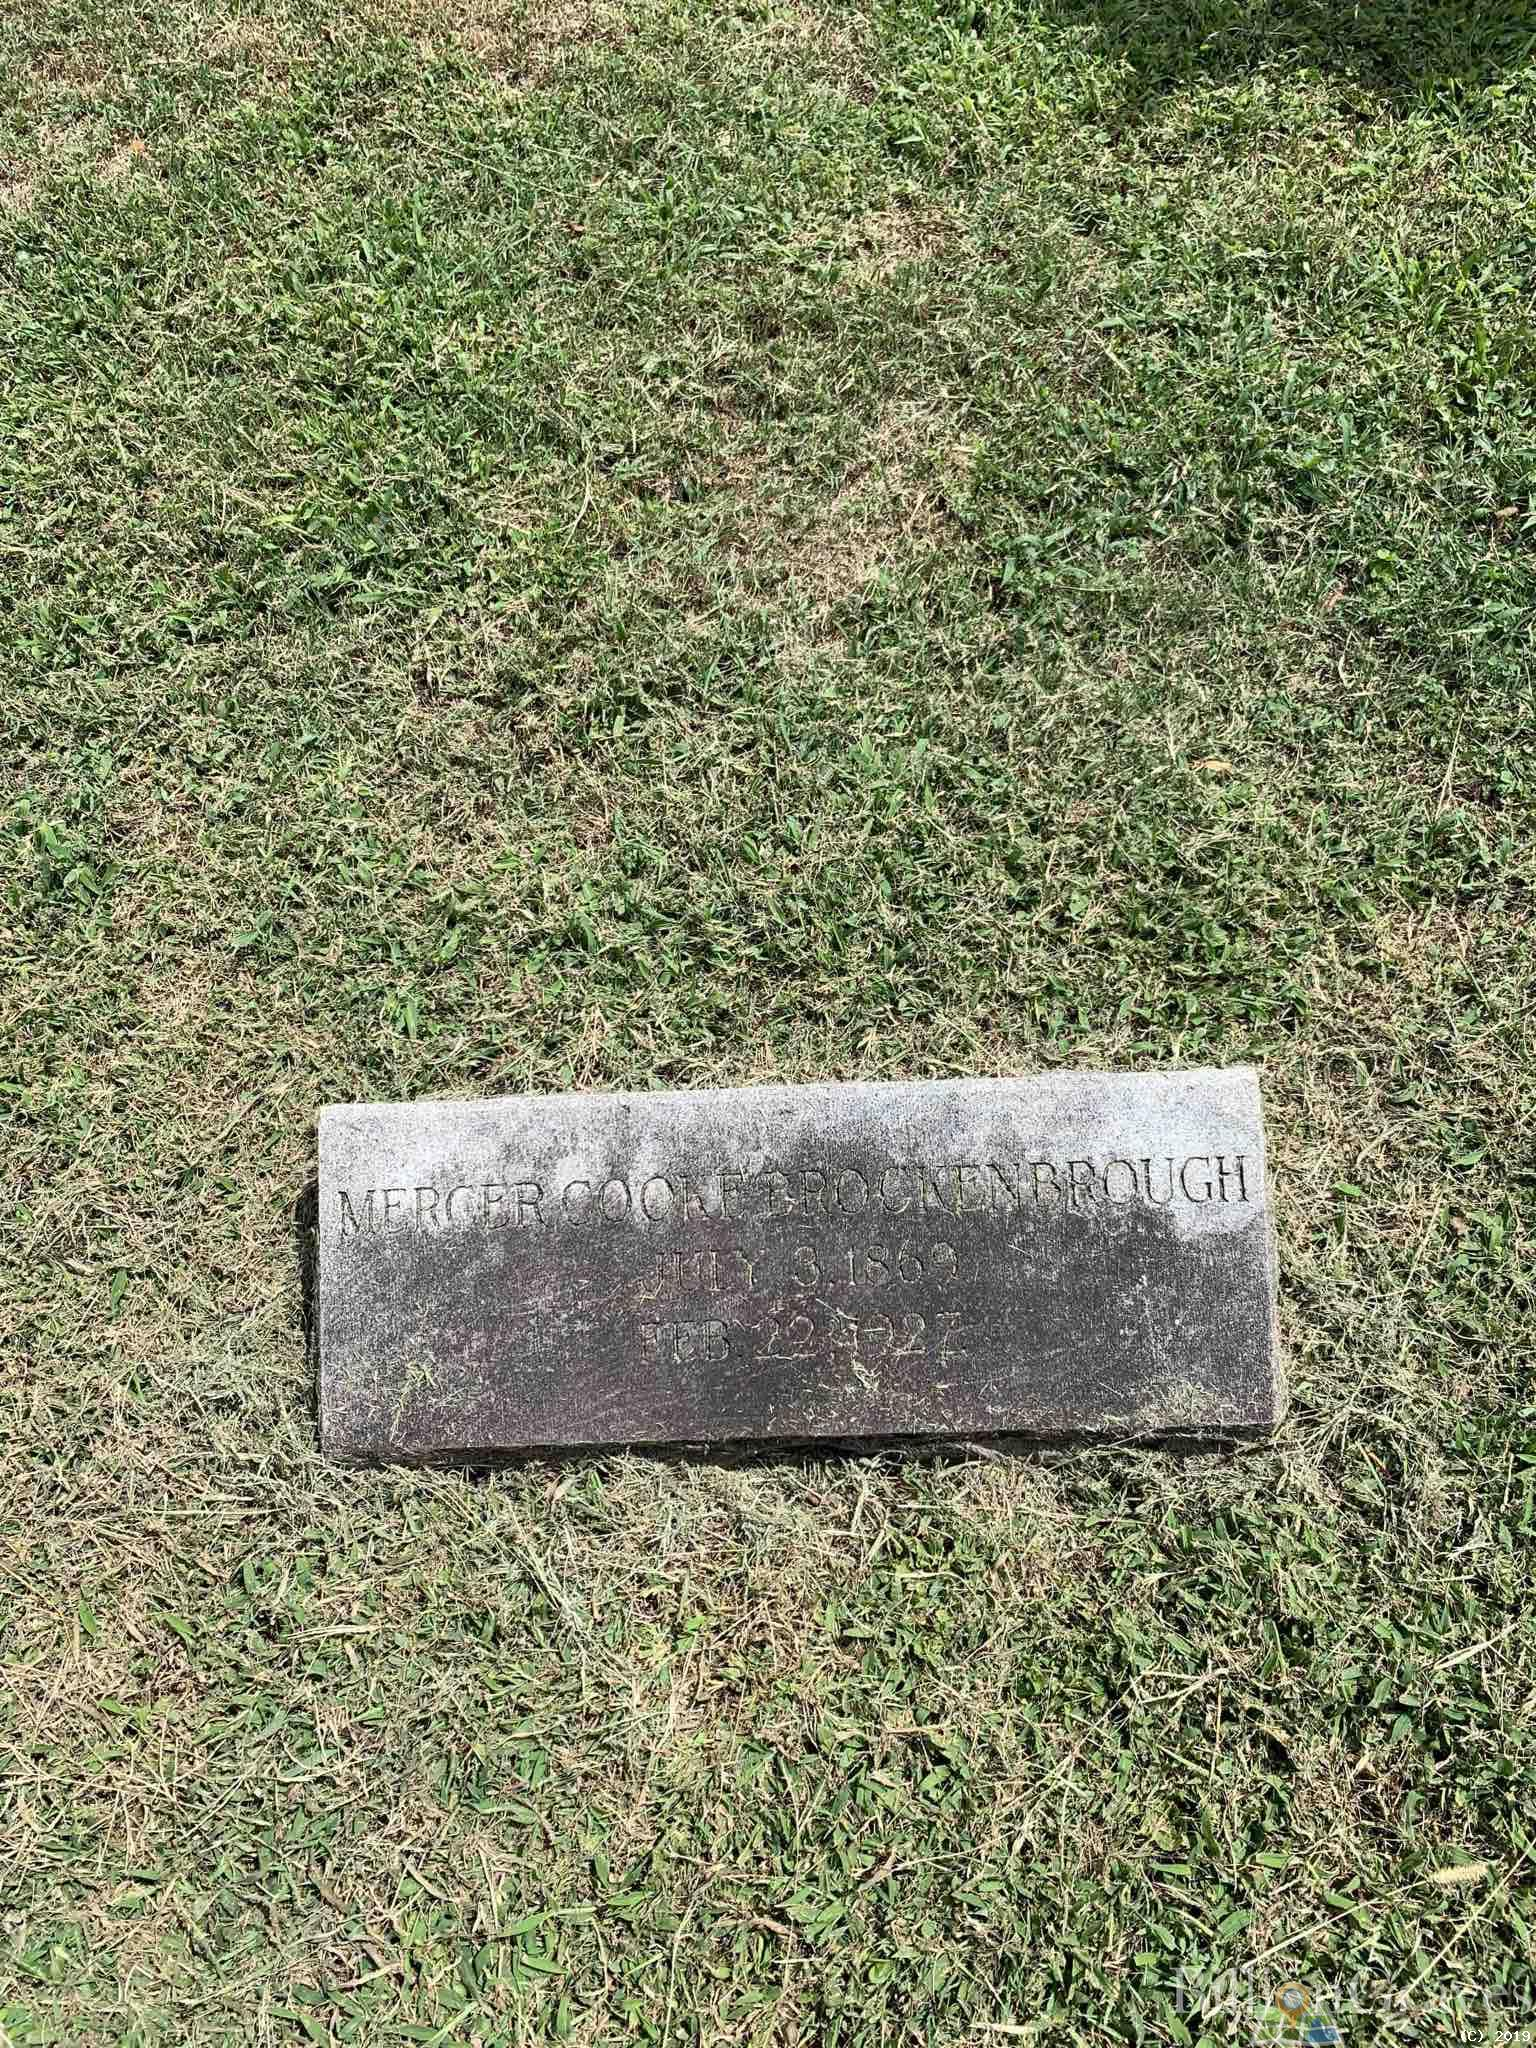flat: (302, 1066, 1284, 1459)
